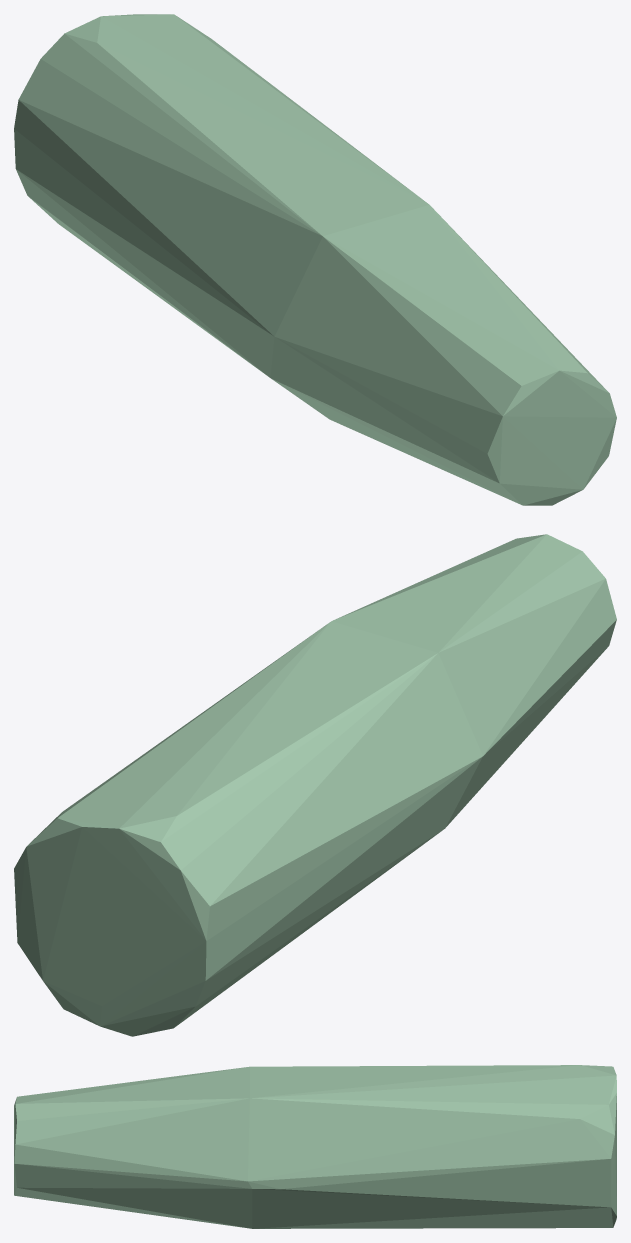
File: disinfectant_b01.glb
3 views of the same model, one above another, from view 1: azimuth 30°, elevation 25°; view 2: azimuth 150°, elevation 25°; view 3: azimuth 270°, elevation 25° (orthographic). The views are drawn at different scales.
Parts seen in each view (by area): view 1: geometry_0; view 2: geometry_0; view 3: geometry_0.
Boxes of the visible parts, bbox=[...] form: geometry_0: bbox=[14, 14, 616, 505]; geometry_0: bbox=[14, 534, 616, 1036]; geometry_0: bbox=[14, 1065, 616, 1228].
Bounding box in the file's own units: 0.1303 × 0.1236 × 0.48.
